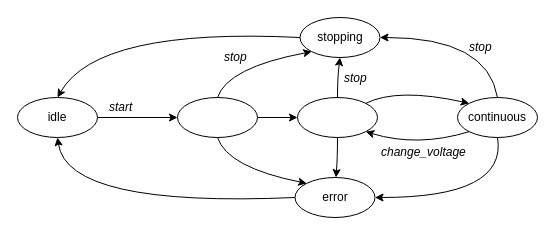
Image size: 555x235. Some labels were removed from this diagram. Each missing label, with the box of its shape:
configure: (176, 96, 258, 138)
ramping: (296, 96, 378, 138)
